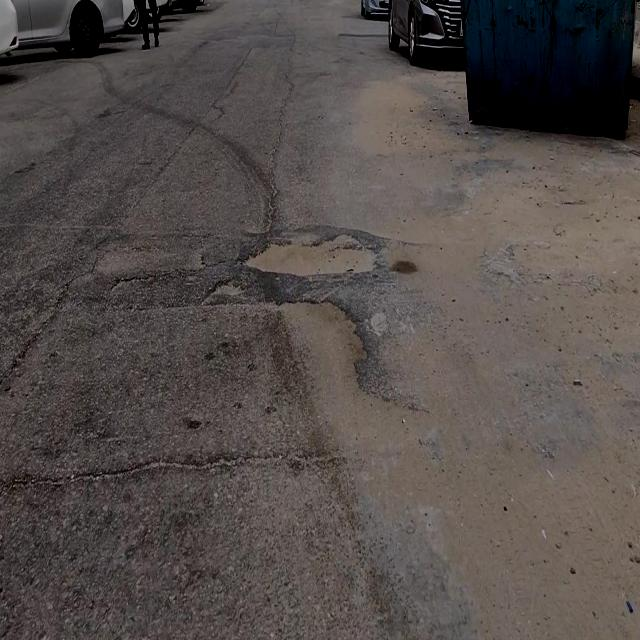Potholes: (247, 233, 378, 279)
